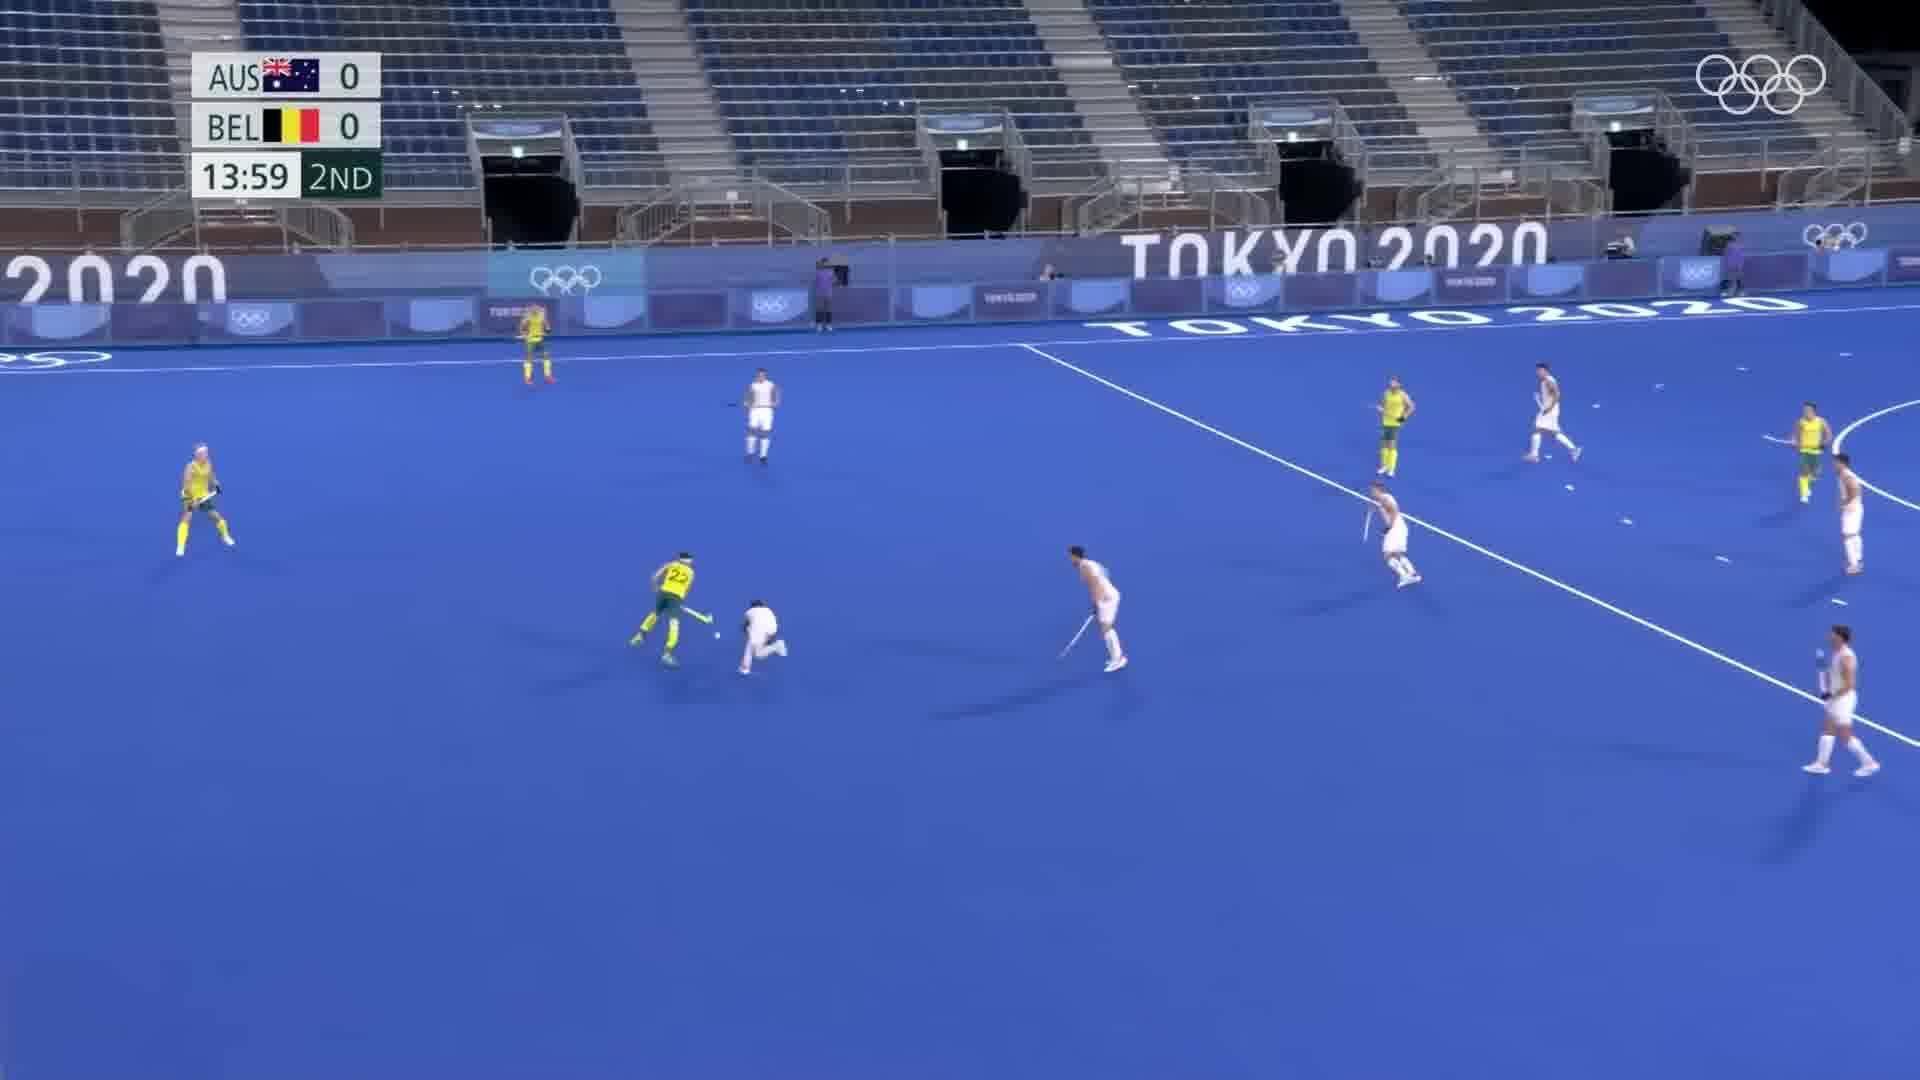ball: (709, 630, 724, 642)
